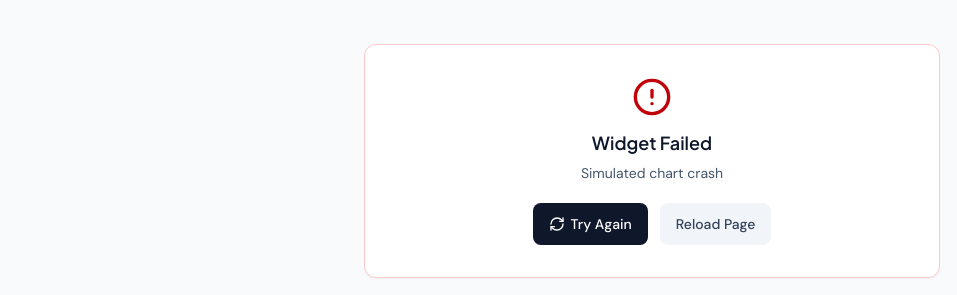
it: BreatheWise AI Advanced Workflows: Live Gemini, Loading/Error Recovery, Notifications & Export › catches runtime render failures in ErrorBoundary and recovers cleanly on Try Again
Expected: the message shows "Widget Failed", [592,131,712,154]
Expected: the message shows "Simulated chart crash", [581,164,723,182]
Click the button "Try Again": coordinates (590, 224) [533,203,648,245]
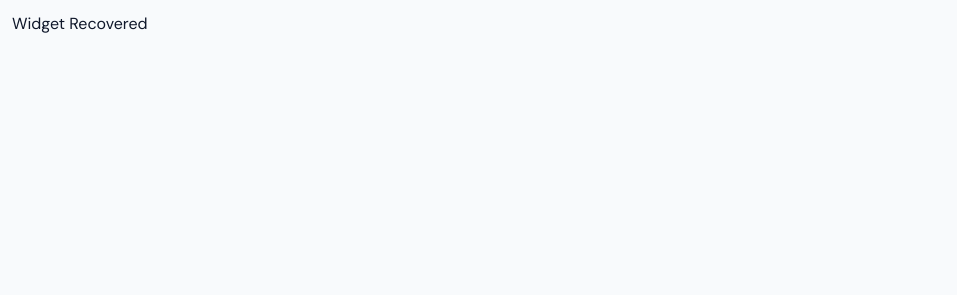
Expected: the text "Widget Recovered" is shown, [12,13,148,34]
